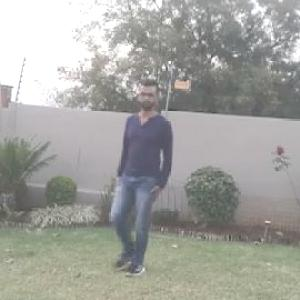follow: (121, 78, 188, 272)
